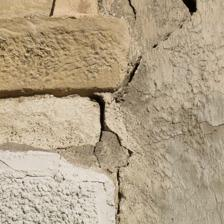Crack: (8, 9, 138, 95), (36, 18, 185, 69), (24, 43, 125, 96)
